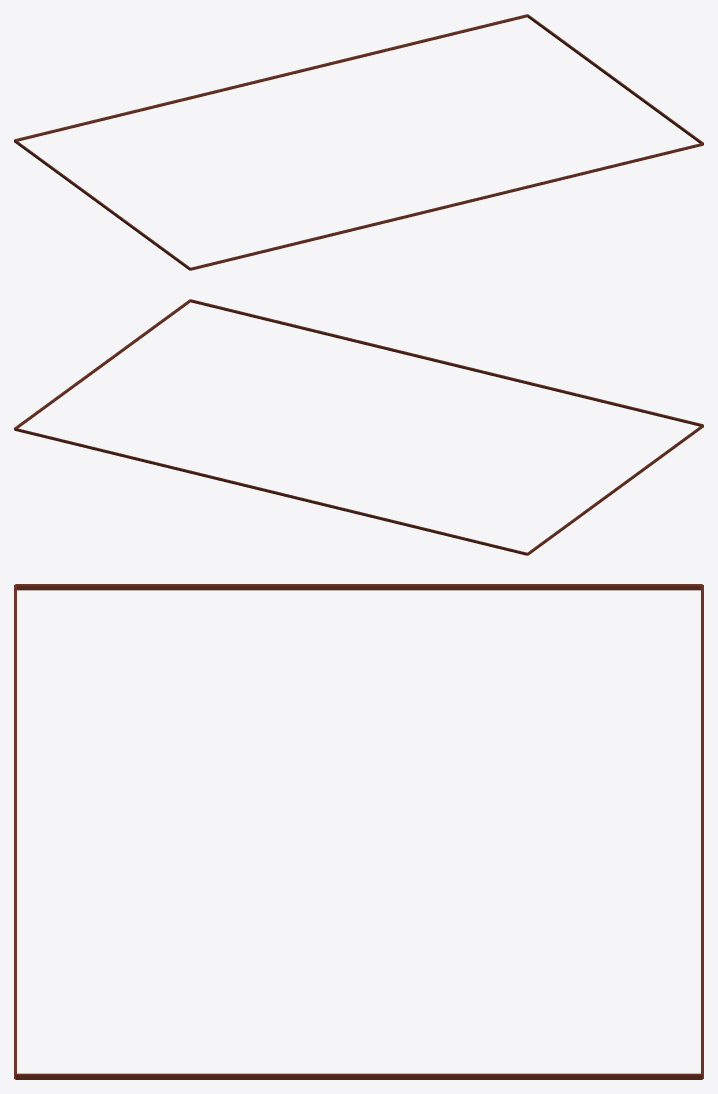
File: 1_wall_003.fbx
3 renders of one model, top to bottom at view 1: azimuth 30°, elevation 25°; view 2: azimuth 150°, elevation 25°; view 3: azimuth 270°, elevation 25°, orthographic. The views are drawn at different scales.
Parts seen in each view (by area): view 1: wall_003; view 2: wall_003; view 3: wall_003.
Part boxes in pixels (bbox=[...]): wall_003: bbox=[14, 14, 703, 270]; wall_003: bbox=[14, 299, 703, 555]; wall_003: bbox=[14, 584, 703, 1079].
Bounding box in the file's own units: 4428 × 20.08 × 2630.
